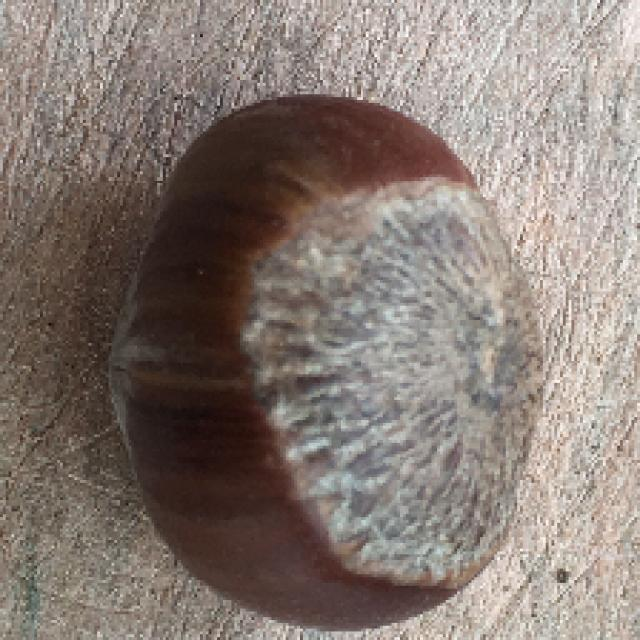qualityHazelnut: (105, 84, 548, 632)
